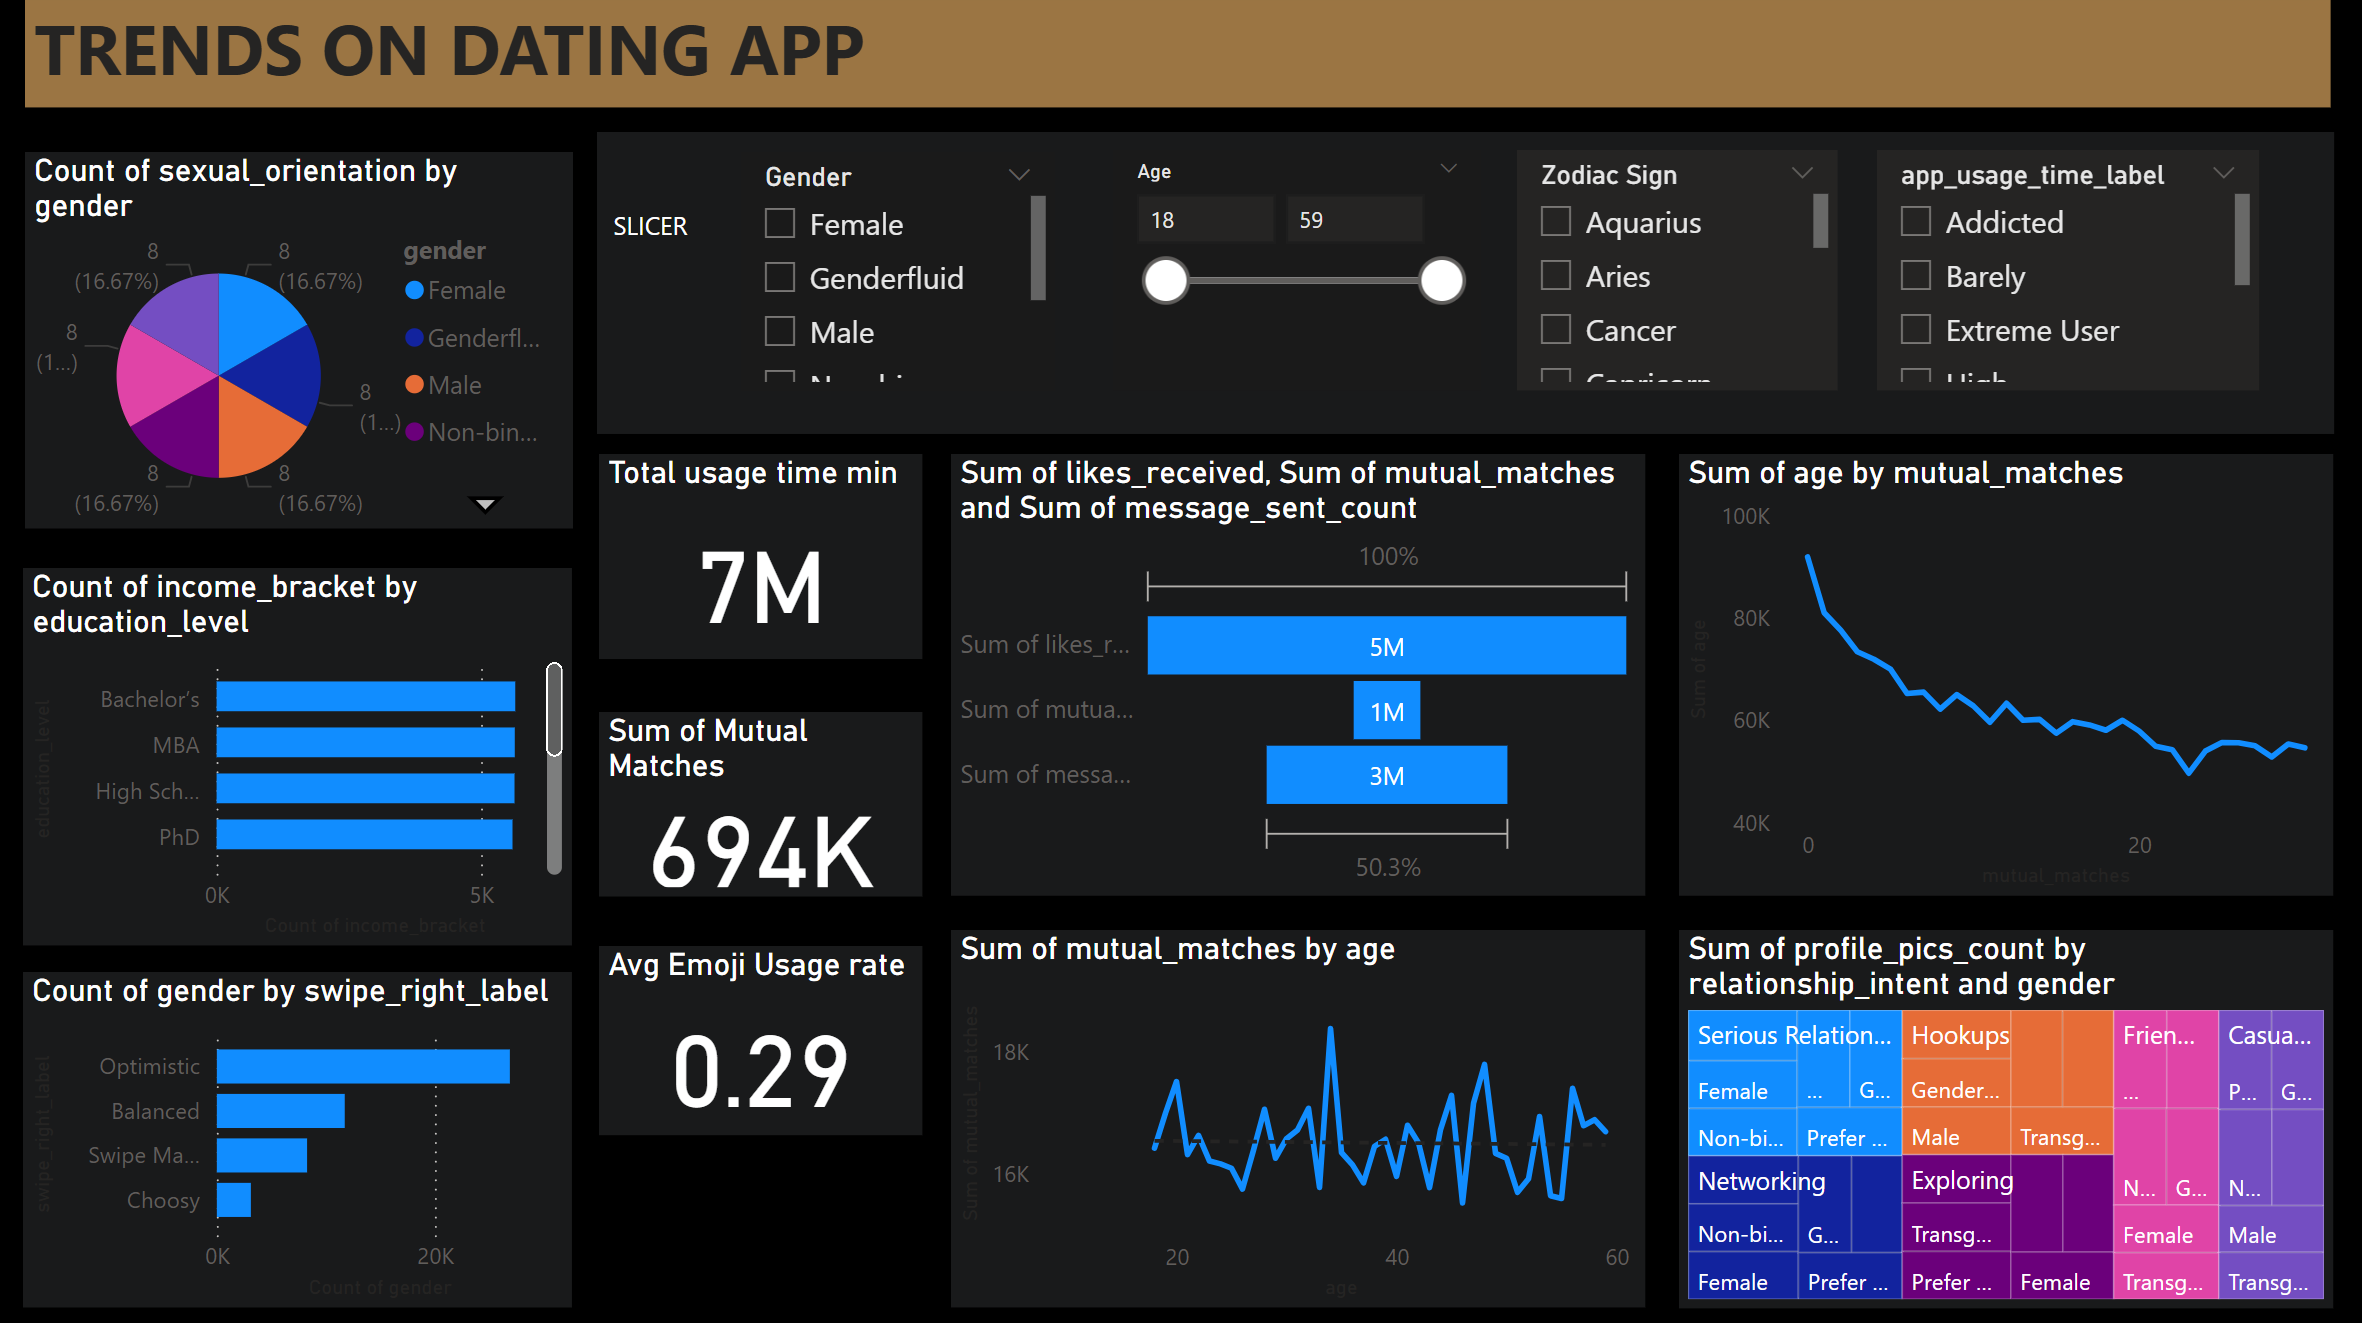

Layout of this report page (visuals, bound fields, positions):
{"tool":"powerbi","page":{"name":"Page 1","canvas":[1280,720],"ordinal":0},"visuals":[{"type":"textbox","box":[21.4,0,1237.1,62.8],"z":0},{"type":"pieChart","fields":{"Category":["dating_app_behavior_dataset_extended1.gender"],"Y":["Count(dating_app_behavior_dataset_extended1.sexual_orientation)"]},"box":[21.4,87.3,294,202.1],"z":1000},{"type":"clusteredBarChart","fields":{"Category":["dating_app_behavior_dataset_extended1.education_level"],"Y":["CountNonNull(dating_app_behavior_dataset_extended1.income_bracket)"]},"box":[20.4,309.8,294.5,202.7],"z":2000},{"type":"barChart","fields":{"Category":["dating_app_behavior_dataset_extended1.swipe_right_label"],"Y":["CountNonNull(dating_app_behavior_dataset_extended1.gender)"]},"box":[20.4,526.5,294.5,179.8],"z":3000},{"type":"lineChart","fields":{"Category":["dating_app_behavior_dataset_extended1.mutual_matches"],"Y":["Sum(dating_app_behavior_dataset_extended1.age)"]},"box":[909.2,249.5,350.8,236.8],"z":4000},{"type":"funnel","fields":{"Y":["Sum(dating_app_behavior_dataset_extended1.likes_received)","Sum(dating_app_behavior_dataset_extended1.mutual_matches)","Sum(dating_app_behavior_dataset_extended1.message_sent_count)"]},"box":[517.9,249.5,372.3,236.8],"z":5000},{"type":"textbox","box":[328,76,932,162.1],"z":6000},{"type":"slicer","fields":{"Values":["dating_app_behavior_dataset_extended1.gender"]},"box":[405.2,87.4,168.4,127.9],"z":7000},{"type":"slicer","fields":{"Values":["dating_app_behavior_dataset_extended1.age"]},"box":[605.3,86.1,197.5,129.2],"z":8000},{"type":"slicer","fields":{"Values":["dating_app_behavior_dataset_extended1.zodiac_sign"]},"box":[821.8,86.1,172.2,129.2],"z":9000},{"type":"slicer","fields":{"Values":["dating_app_behavior_dataset_extended1.app_usage_time_label"]},"box":[1015.6,86.1,205.1,129.2],"z":10000},{"type":"lineChart","fields":{"Category":["dating_app_behavior_dataset_extended1.age"],"Y":["Sum(dating_app_behavior_dataset_extended1.mutual_matches)"]},"box":[517.9,504,372.3,202.6],"z":11000},{"type":"card","title":"Total usage time min","fields":{"Values":["Sum(dating_app_behavior_dataset_extended1.app_usage_time_min)"]},"box":[329.2,249.5,173.5,110.2],"z":12000},{"type":"card","title":"Sum of Mutual Matches","fields":{"Values":["Sum(dating_app_behavior_dataset_extended1.mutual_matches)"]},"box":[329.2,387.5,173.5,98.8],"z":13000},{"type":"card","title":"Avg Emoji Usage rate","fields":{"Values":["Avg(dating_app_behavior_dataset_extended1.emoji_usage_rate)"]},"box":[329.2,512.9,173.5,101.3],"z":14000},{"type":"treemap","fields":{"Group":["dating_app_behavior_dataset_extended1.relationship_intent"],"Details":["dating_app_behavior_dataset_extended1.gender"],"Values":["Sum(dating_app_behavior_dataset_extended1.profile_pics_count)"]},"box":[909,504,351,203],"z":15000}]}

Visuals, with their boxes in screenshot pixels (x1, y1, x2, y2), scaled from the page's 1280x720 canvas onto the 2362x1323 screenshot:
textbox: [x1=39, y1=0, x2=2322, y2=115]
pieChart - dating_app_behavior_dataset_extended1.gender x Count(dating_app_behavior_dataset_extended1.sexual_orientation): [x1=39, y1=160, x2=582, y2=532]
clusteredBarChart - dating_app_behavior_dataset_extended1.education_level x CountNonNull(dating_app_behavior_dataset_extended1.income_bracket): [x1=38, y1=569, x2=581, y2=942]
barChart - dating_app_behavior_dataset_extended1.swipe_right_label x CountNonNull(dating_app_behavior_dataset_extended1.gender): [x1=38, y1=967, x2=581, y2=1298]
lineChart - dating_app_behavior_dataset_extended1.mutual_matches x Sum(dating_app_behavior_dataset_extended1.age): [x1=1678, y1=458, x2=2325, y2=894]
funnel - Sum(dating_app_behavior_dataset_extended1.likes_received) x Sum(dating_app_behavior_dataset_extended1.mutual_matches): [x1=956, y1=458, x2=1643, y2=894]
textbox: [x1=605, y1=140, x2=2325, y2=438]
slicer - dating_app_behavior_dataset_extended1.gender: [x1=748, y1=161, x2=1058, y2=396]
slicer - dating_app_behavior_dataset_extended1.age: [x1=1117, y1=158, x2=1481, y2=396]
slicer - dating_app_behavior_dataset_extended1.zodiac_sign: [x1=1516, y1=158, x2=1834, y2=396]
slicer - dating_app_behavior_dataset_extended1.app_usage_time_label: [x1=1874, y1=158, x2=2253, y2=396]
lineChart - dating_app_behavior_dataset_extended1.age x Sum(dating_app_behavior_dataset_extended1.mutual_matches): [x1=956, y1=926, x2=1643, y2=1298]
"Total usage time min" card: [x1=607, y1=458, x2=928, y2=661]
"Sum of Mutual Matches" card: [x1=607, y1=712, x2=928, y2=894]
"Avg Emoji Usage rate" card: [x1=607, y1=942, x2=928, y2=1129]
treemap - dating_app_behavior_dataset_extended1.relationship_intent x dating_app_behavior_dataset_extended1.gender: [x1=1677, y1=926, x2=2325, y2=1299]
